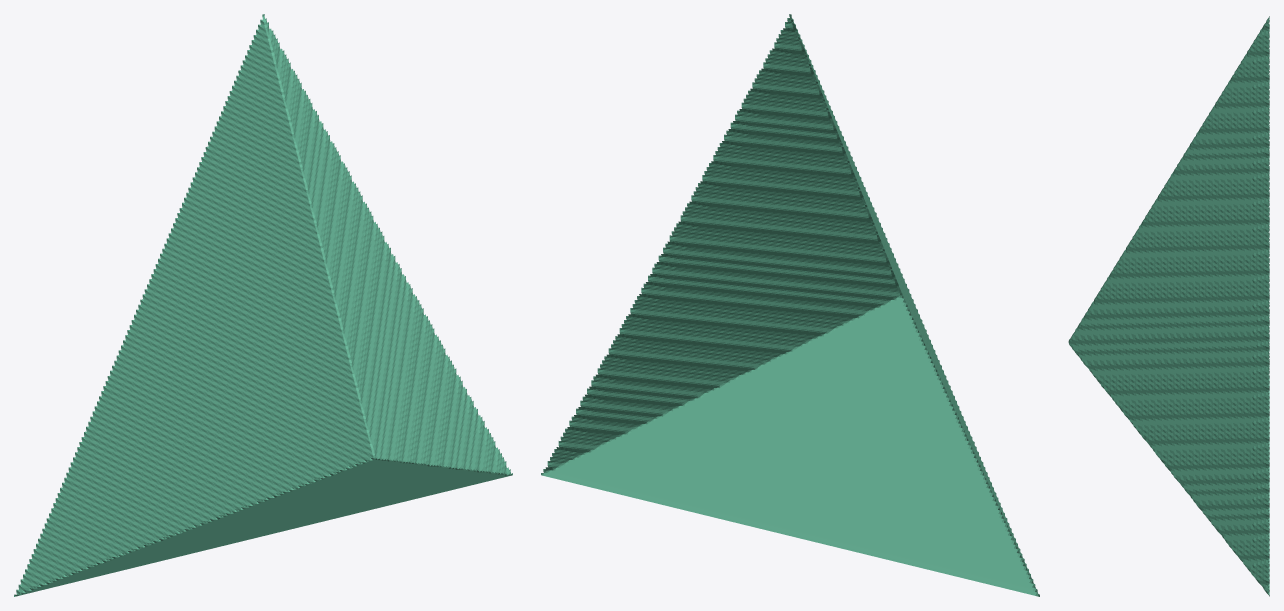
The picture shows the model from 3 angles, left to right: view 1: azimuth 30°, elevation 25°; view 2: azimuth 150°, elevation 25°; view 3: azimuth 270°, elevation 25°; orthographic projection. The views are drawn at different scales.
Parts seen in each view (by area): view 1: geometry_0; view 2: geometry_0; view 3: geometry_0.
Boxes of the visible parts, box(x1,y1,x2,y2) form: geometry_0: box(14, 14, 512, 596); geometry_0: box(541, 14, 1039, 596); geometry_0: box(1068, 16, 1269, 596).
Size of the model in its own units: 1 by 1 by 0.3857.
